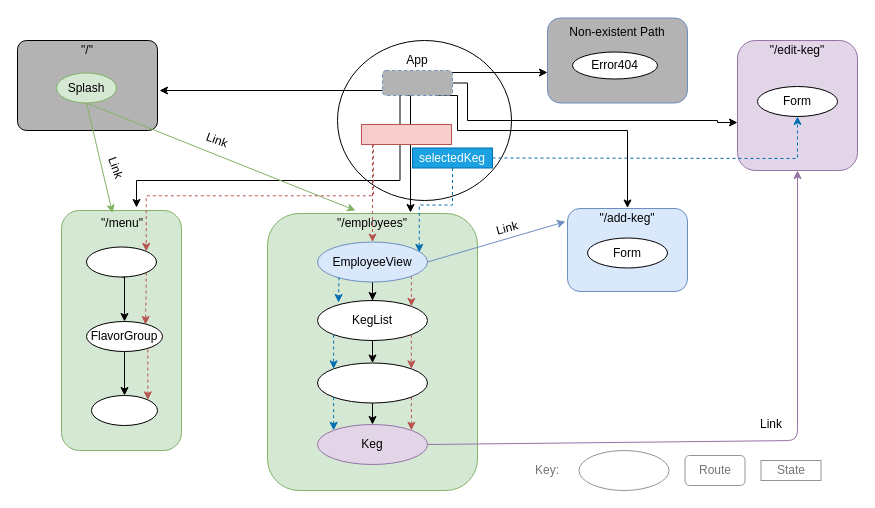
Some shapes in this 875 by 508 pixel diagram are drawn without their labels. Here are the shapes that lost their labels. From the top down, the box of each, then its label:
(382, 70, 452, 96): Routes
(360, 124, 452, 144): masterKegList
(86, 246, 156, 277): Menu
(316, 362, 428, 403): KegGroup
(90, 394, 158, 426): Kombucha
(578, 450, 669, 490): Component
